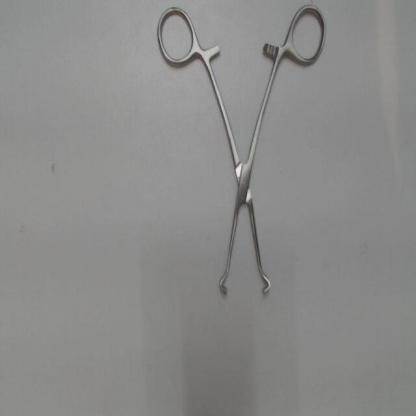Babcock Tissue Forceps: (150, 2, 330, 298)
